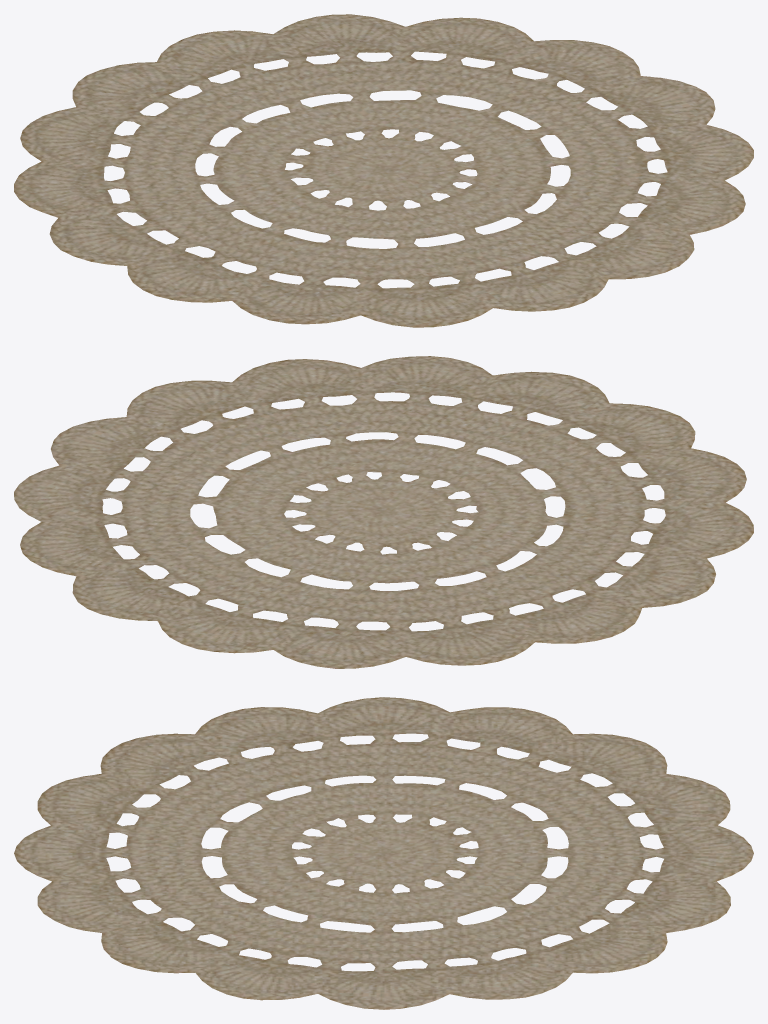
The model's file is RugRoundLaceM00.glb.
3 renders of one model, top to bottom at view 1: azimuth 30°, elevation 25°; view 2: azimuth 150°, elevation 25°; view 3: azimuth 270°, elevation 25°, orthographic.
Parts seen in each view (by area): view 1: Main__mMain; view 2: Main__mMain; view 3: Main__mMain.
Boxes of the visible parts, <box> form: Main__mMain: <box>14,14,753,327</box>; Main__mMain: <box>14,356,753,668</box>; Main__mMain: <box>14,697,753,1009</box>.
Size of the model in its own units: 30 by 0.03 by 30.
1 material, 1 textured.
